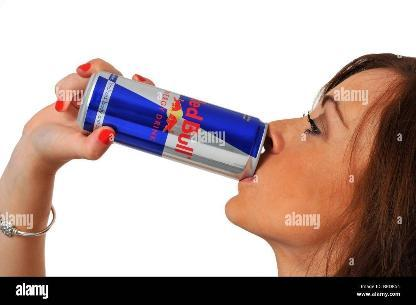Can: (72, 70, 272, 180)
